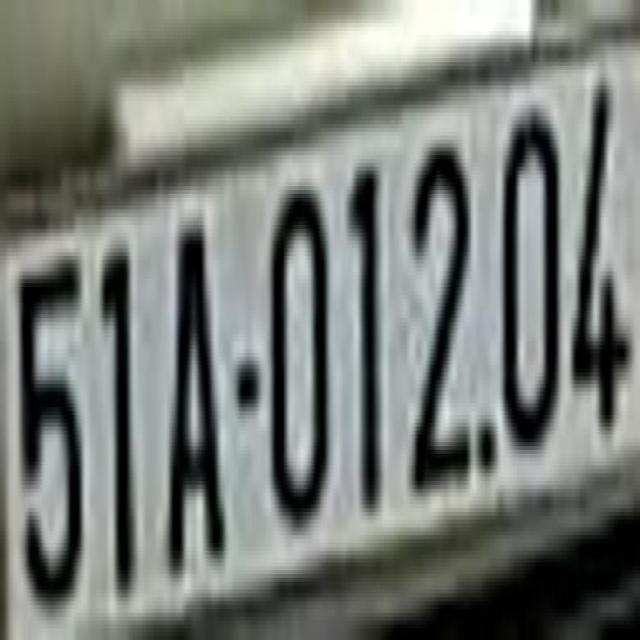0: (268, 178, 333, 547), (501, 97, 560, 450)
1: (99, 233, 142, 609), (341, 143, 381, 528)
2: (402, 128, 472, 512)
4: (567, 62, 630, 458)
5: (19, 240, 85, 640)
A: (166, 190, 226, 574)
